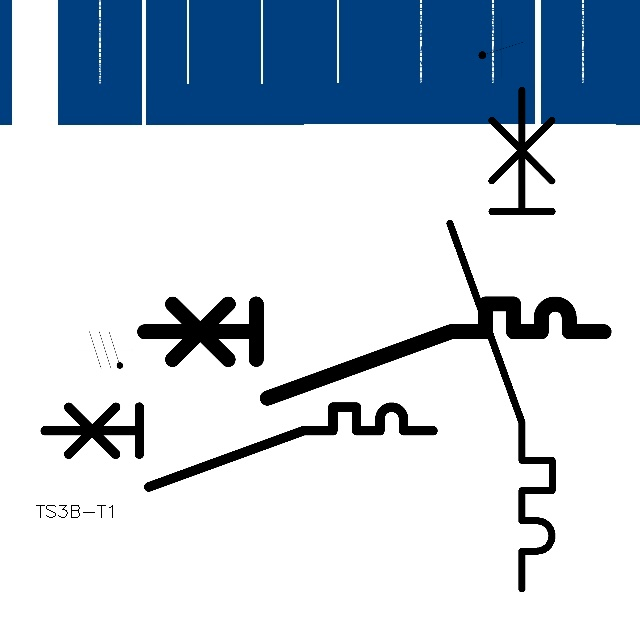interruptor_termomagnetico: (437, 77, 565, 602), (132, 292, 616, 410), (35, 397, 443, 497)
